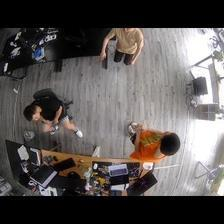normal: (23, 88, 83, 142), (126, 120, 182, 164), (99, 28, 146, 68)
